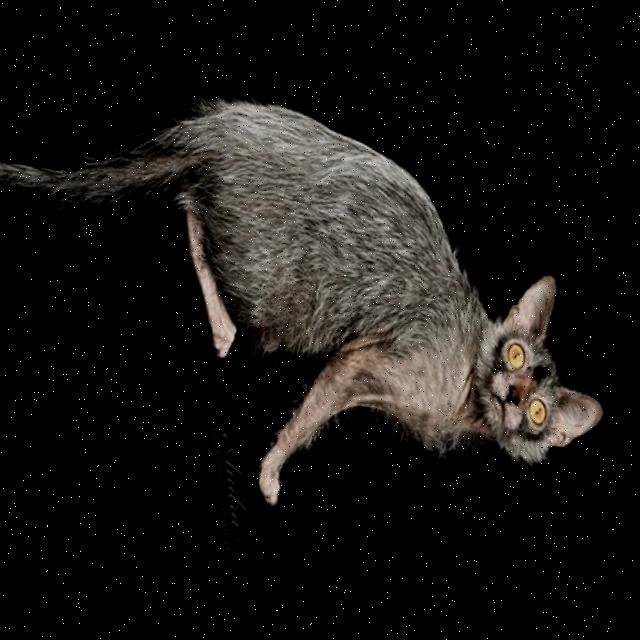Lykoi: (0, 26, 639, 567)
